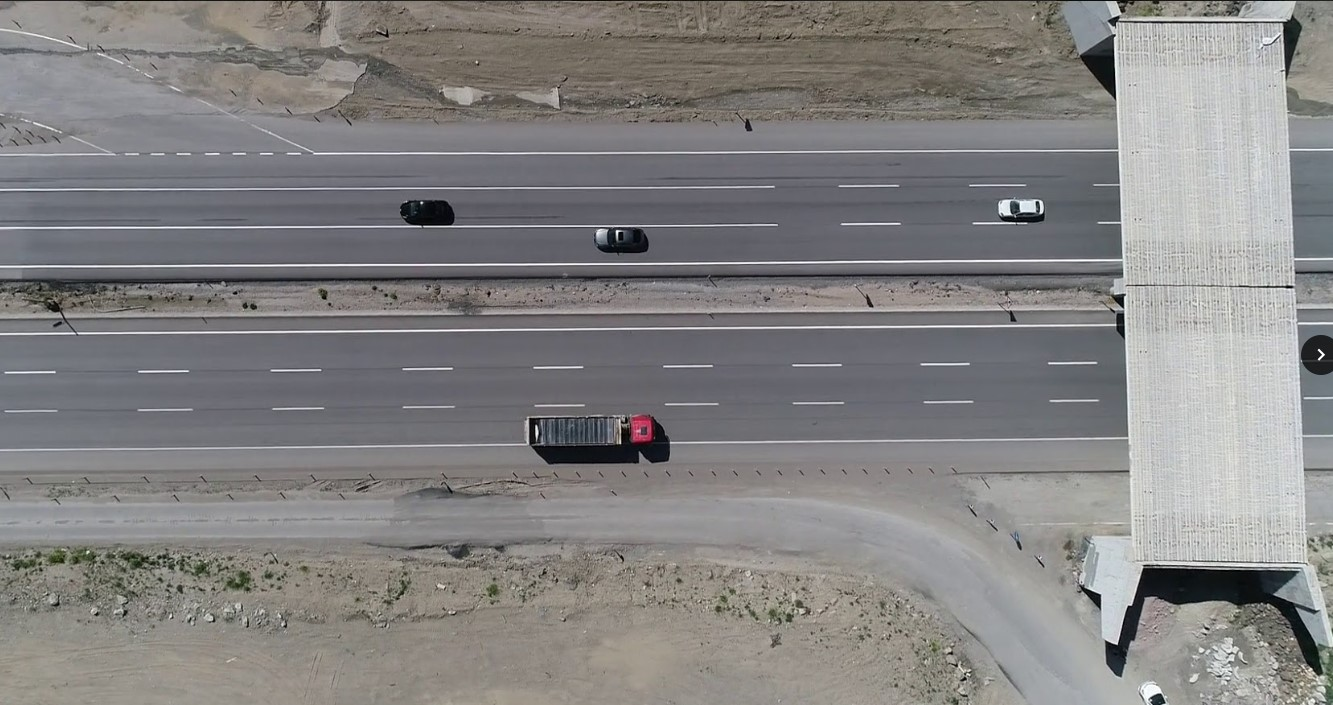araba: (595, 224, 648, 250), (401, 199, 453, 224), (994, 196, 1045, 221)
kamyon: (524, 414, 662, 452)
